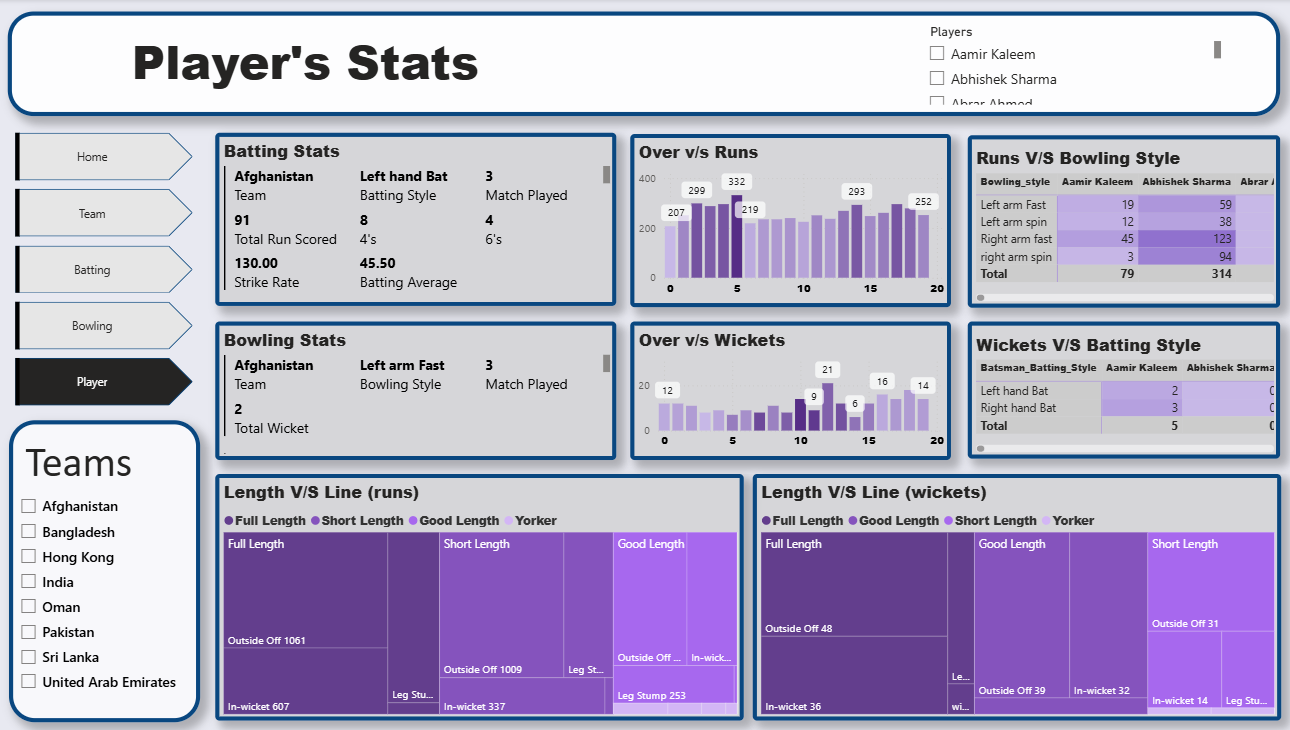

This screenshot's page, from the dashboard's own definition file:
{"tool":"powerbi","page":{"name":"Player","canvas":[1500,850],"ordinal":4},"visuals":[{"type":"textbox","box":[9.6,14.5,1469.8,120.6],"z":0},{"type":"pageNavigator","box":[18.3,155,205,316.7],"z":1000},{"type":"textbox","box":[10.8,486.3,220.5,348.9],"z":2000},{"type":"slicer","fields":{"Values":["player.team"]},"box":[13.5,565.2,209,269.1],"z":3000},{"type":"slicer","fields":{"Values":["player.players"]},"box":[1062.9,24.1,353.8,102.9],"z":4000},{"type":"multiRowCard","title":"Batting Stats","fields":{"Values":["player.team","player.batting_style","ball_by_ball.match_id","Sum(ball_by_ball.Run_scored)","ball_by_ball.4's","ball_by_ball.6's","ball_by_ball.Strike Rate","ball_by_ball.Batting Average"]},"box":[249.3,154.4,463.1,200],"z":5000},{"type":"multiRowCard","title":"Bowling Stats","fields":{"Values":["bowling.Bowler_Team","bowling.Bowling_style","Count(bowling.Match_id)","Sum(bowling.Wicket)"]},"box":[249.3,373.1,463.1,160],"z":6000},{"type":"lineClusteredColumnComboChart","title":"Over v/s Runs","fields":{"Category":["page_ball_by_ball.over_number"],"Y":["Sum(page_ball_by_ball.Run_scored)"]},"box":[728.5,156,370,200],"z":7000},{"type":"treemap","title":"Length V/S Line (runs)","fields":{"Group":["ball_by_ball.Ball_length"],"Details":["ball_by_ball.Ball_line"],"Values":["Sum(ball_by_ball.Run_scored)"]},"box":[249.3,548.4,610,285],"z":8000},{"type":"lineClusteredColumnComboChart","title":"Over v/s Wickets","fields":{"Category":["bowling.Over_number"],"Y":["Sum(bowling.Wicket)"]},"box":[728.5,373.1,370,160],"z":9000},{"type":"treemap","title":"Length V/S Line (wickets)","fields":{"Group":["bowling.Ball_length"],"Details":["bowling.Ball_line"],"Values":["Sum(bowling.Wicket)"]},"box":[870,548.4,610,285],"z":10000},{"type":"pivotTable","title":"Runs V/S Bowling Style","fields":{"Rows":["ball_by_ball.Bowling_style"],"Columns":["ball_by_ball.Batsman_name"],"Values":["Sum(ball_by_ball.Run_scored)"]},"box":[1118.8,157.4,360.9,199.2],"z":11000},{"type":"pivotTable","title":"Wickets V/S Batting Style","fields":{"Values":["Sum(bowling.Wicket)"],"Columns":["bowling.Bowler_Name"],"Rows":["bowling.Batsman_Batting_Style"]},"box":[1118.8,372.5,360.9,158.8],"z":12000}]}

Visuals, with their boxes in screenshot pixels (x1, y1, x2, y2), scaled from the page's 1500x850 canvas onto the 1290x730 screenshot:
textbox: 8,12,1272,116
pageNavigator: 16,133,192,405
textbox: 9,418,199,717
slicer - player.team: 12,485,191,717
slicer - player.players: 914,21,1218,109
"Batting Stats" multiRowCard: 214,133,613,304
"Bowling Stats" multiRowCard: 214,320,613,458
"Over v/s Runs" lineClusteredColumnComboChart: 627,134,945,306
"Length V/S Line (runs)" treemap: 214,471,739,716
"Over v/s Wickets" lineClusteredColumnComboChart: 627,320,945,458
"Length V/S Line (wickets)" treemap: 748,471,1273,716
"Runs V/S Bowling Style" pivotTable: 962,135,1273,306
"Wickets V/S Batting Style" pivotTable: 962,320,1273,456
